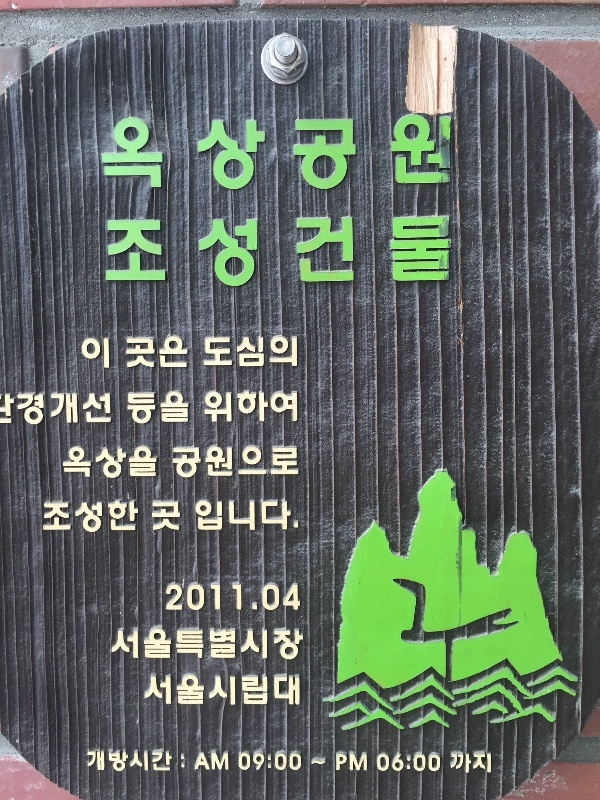text: (97, 110, 112, 197), (113, 110, 128, 197), (129, 110, 144, 197), (145, 110, 160, 197), (161, 110, 176, 197), (177, 110, 192, 197), (193, 110, 208, 197), (209, 110, 224, 197), (225, 110, 240, 197), (241, 110, 256, 197), (257, 110, 272, 197), (273, 110, 288, 197), (289, 110, 304, 197), (305, 110, 320, 197), (321, 110, 336, 197), (337, 110, 352, 197), (353, 110, 368, 197), (369, 110, 384, 197), (385, 110, 400, 197), (401, 110, 416, 197), (417, 110, 432, 197), (433, 110, 448, 197), (113, 213, 128, 289), (129, 213, 144, 289), (145, 213, 160, 289), (161, 213, 176, 289), (177, 213, 192, 289), (193, 213, 208, 289), (209, 213, 224, 289), (225, 213, 240, 289), (241, 213, 256, 289), (257, 213, 272, 289), (273, 213, 288, 289), (289, 213, 304, 289), (305, 213, 320, 289), (321, 213, 336, 289), (337, 213, 352, 289), (353, 213, 368, 289), (369, 213, 384, 289), (385, 213, 400, 289), (401, 213, 416, 289), (417, 213, 432, 289), (433, 213, 448, 289), (103, 213, 112, 289), (49, 497, 64, 538), (65, 497, 80, 538), (81, 497, 96, 538), (97, 497, 112, 538), (113, 497, 128, 538), (97, 390, 113, 428), (145, 443, 161, 481), (129, 387, 144, 427), (145, 387, 160, 427), (161, 387, 176, 427), (129, 625, 144, 665), (145, 625, 160, 665), (161, 625, 176, 665), (177, 625, 192, 665), (193, 625, 208, 665), (209, 625, 224, 665), (225, 625, 240, 665), (241, 625, 256, 665), (257, 625, 272, 665), (273, 625, 288, 665), (289, 625, 304, 665), (161, 671, 176, 711), (177, 671, 192, 711), (193, 671, 208, 711), (209, 671, 224, 711), (225, 671, 240, 711), (241, 671, 256, 711), (257, 671, 272, 711), (273, 671, 288, 711), (129, 334, 144, 373), (145, 334, 160, 373), (161, 334, 176, 373), (209, 388, 224, 427), (225, 388, 240, 427), (241, 388, 256, 427), (257, 388, 272, 427), (273, 388, 288, 427), (209, 334, 224, 372), (225, 334, 240, 372), (241, 334, 256, 372), (257, 334, 272, 372), (273, 334, 288, 372), (17, 390, 32, 428), (33, 390, 48, 428), (49, 390, 64, 428), (65, 390, 80, 428), (81, 390, 96, 428), (65, 443, 80, 481), (81, 443, 96, 481), (97, 443, 112, 481), (113, 443, 128, 481), (129, 443, 144, 481), (1, 390, 16, 427), (177, 579, 192, 616), (193, 579, 208, 616), (209, 579, 224, 616), (225, 579, 240, 616), (241, 579, 256, 616), (257, 579, 272, 616), (273, 579, 288, 616), (81, 334, 96, 370), (177, 445, 192, 481), (193, 445, 208, 481), (209, 445, 224, 481), (225, 445, 240, 481), (241, 445, 256, 481), (257, 445, 272, 481), (273, 445, 288, 481), (209, 499, 224, 535), (225, 499, 240, 535), (241, 499, 256, 535), (257, 499, 272, 535), (273, 499, 288, 535), (161, 500, 176, 536), (177, 387, 190, 427), (115, 625, 128, 665), (177, 334, 190, 373), (97, 334, 111, 370), (194, 499, 208, 535), (289, 579, 302, 616), (289, 671, 301, 711), (129, 497, 140, 538), (149, 671, 160, 711), (289, 499, 301, 535), (465, 751, 480, 779), (165, 579, 176, 616), (97, 751, 112, 778), (113, 751, 128, 778), (129, 751, 144, 778), (145, 751, 160, 778), (161, 751, 176, 778), (209, 748, 224, 775), (289, 445, 300, 481), (450, 751, 464, 779), (289, 388, 299, 427), (385, 749, 400, 775), (401, 749, 416, 775), (417, 749, 432, 775), (289, 334, 299, 372), (241, 751, 256, 776), (257, 751, 272, 776), (273, 751, 288, 776), (337, 751, 352, 776), (353, 751, 368, 776), (449, 110, 453, 197), (481, 751, 493, 779), (289, 751, 302, 776), (151, 500, 160, 536), (85, 751, 96, 778), (42, 497, 48, 538), (177, 751, 186, 778), (202, 388, 208, 427), (449, 213, 452, 289), (202, 334, 208, 372), (170, 445, 176, 481), (200, 748, 208, 775), (433, 749, 441, 775), (377, 749, 384, 775), (177, 500, 182, 536), (225, 748, 231, 775), (310, 757, 320, 769), (125, 334, 128, 373), (61, 443, 64, 481), (95, 110, 96, 197), (321, 757, 328, 769), (237, 751, 240, 776), (334, 751, 336, 776), (127, 387, 128, 427)
